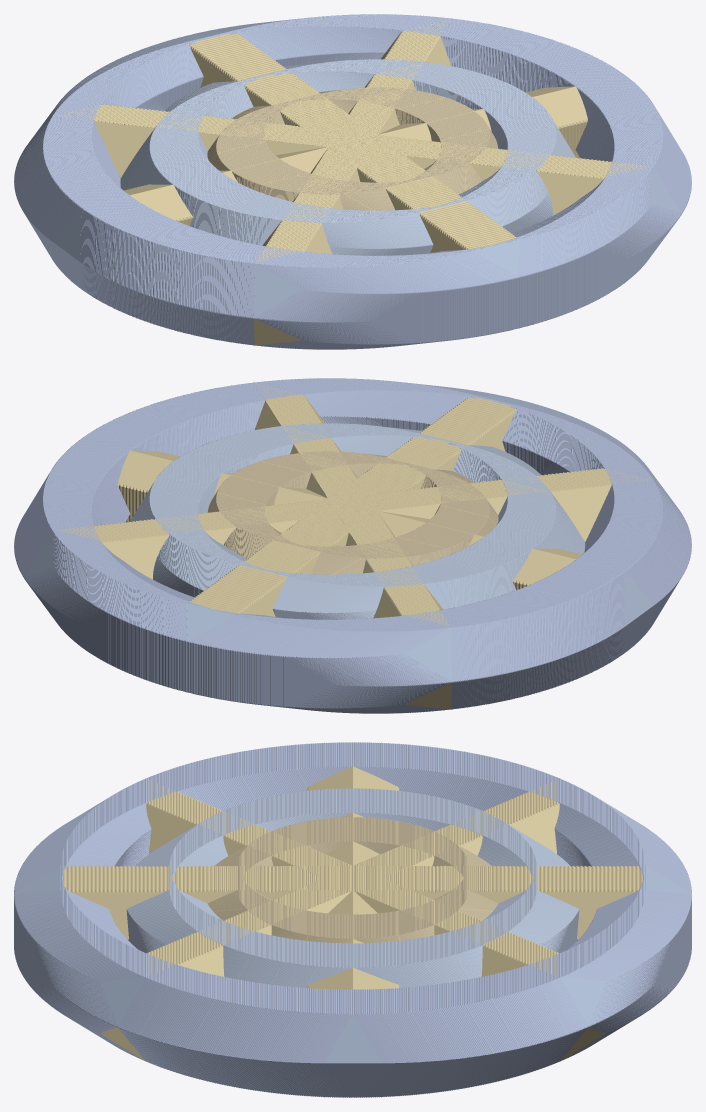
Rendered from Orbital_Resonance_Lab.glb.
3 views of the same model, one above another, from view 1: azimuth 30°, elevation 25°; view 2: azimuth 150°, elevation 25°; view 3: azimuth 270°, elevation 25° (orthographic). The views are drawn at different scales.
Visible parts, largest first — view 1: orbit_Ganymede_302, ghost_Ganymede_24, ghost_Ganymede_16, orbit_Ganymede_188, ghost_Ganymede_32, rail_5_447, rail_5_403, rail_1_410, rail_4_432, ghost_Ganymede_8, rail_3_535, rail_0_447 (+2 smaller); view 2: orbit_Ganymede_678, ghost_Ganymede_40, ghost_Ganymede_48, orbit_Ganymede_792, ghost_Ganymede_32, ghost_Ganymede_56, rail_5_535, rail_3_410, rail_3_432, rail_7_403, rail_4_432, rail_4_417; view 3: ghost_Ganymede_0, ghost_Ganymede_8, ghost_Ganymede_56, orbit_Ganymede_0, rail_0_410, rail_5_425, rail_4_439, orbit_Ganymede_188, orbit_Ganymede_792, ghost_Ganymede_16, ghost_Ganymede_48.
Part boxes in pixels (box(x1,y1,x2,y2)): orbit_Ganymede_302: box(373, 254, 421, 348); ghost_Ganymede_24: box(253, 251, 302, 317); ghost_Ganymede_16: box(472, 239, 519, 299); orbit_Ganymede_188: box(550, 211, 627, 299); ghost_Ganymede_32: box(52, 195, 129, 261); rail_5_447: box(97, 109, 146, 162); rail_5_403: box(119, 111, 169, 187); rail_1_410: box(540, 159, 589, 215); rail_4_432: box(130, 184, 176, 220); ghost_Ganymede_8: box(604, 166, 681, 213); rail_3_535: box(253, 318, 300, 345); rail_0_447: box(537, 87, 583, 137); orbit_Ganymede_678: box(284, 618, 332, 712); ghost_Ganymede_40: box(403, 615, 452, 681); ghost_Ganymede_48: box(186, 603, 233, 653); orbit_Ganymede_792: box(78, 575, 155, 663); ghost_Ganymede_32: box(576, 559, 653, 625); ghost_Ganymede_56: box(24, 530, 101, 577); rail_5_535: box(405, 682, 452, 709); rail_3_410: box(540, 475, 589, 539); rail_3_432: box(551, 473, 600, 532); rail_7_403: box(120, 522, 169, 578); rail_4_432: box(529, 548, 575, 584); rail_4_417: box(522, 550, 569, 587); ghost_Ganymede_0: box(324, 989, 381, 1063); ghost_Ganymede_8: box(100, 953, 146, 1026); ghost_Ganymede_56: box(559, 953, 605, 1026); orbit_Ganymede_0: box(324, 1063, 381, 1097); rail_0_410: box(308, 968, 397, 988); rail_5_425: box(515, 796, 555, 851); rail_4_439: box(310, 767, 395, 790); orbit_Ganymede_188: box(33, 910, 125, 990); orbit_Ganymede_792: box(580, 910, 672, 990); ghost_Ganymede_16: box(14, 866, 60, 894); ghost_Ganymede_48: box(645, 866, 691, 894).
Bounding box in the file's own units: 12.41 × 1.7 × 12.41.
